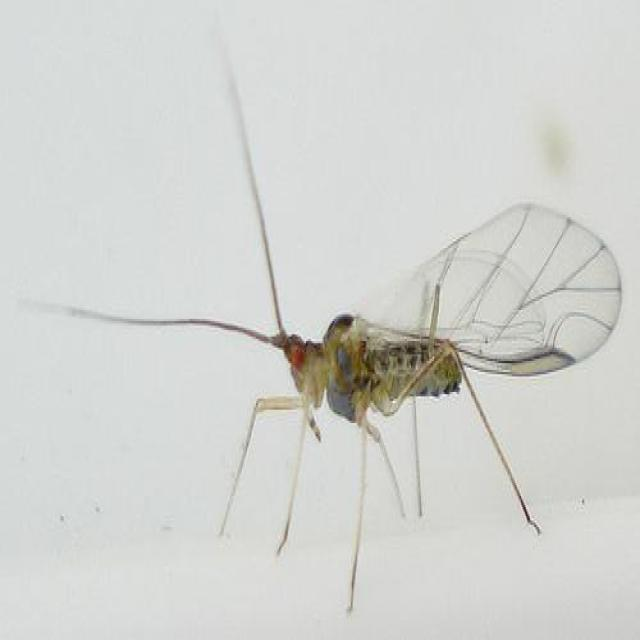Aphids: (52, 98, 631, 599)
